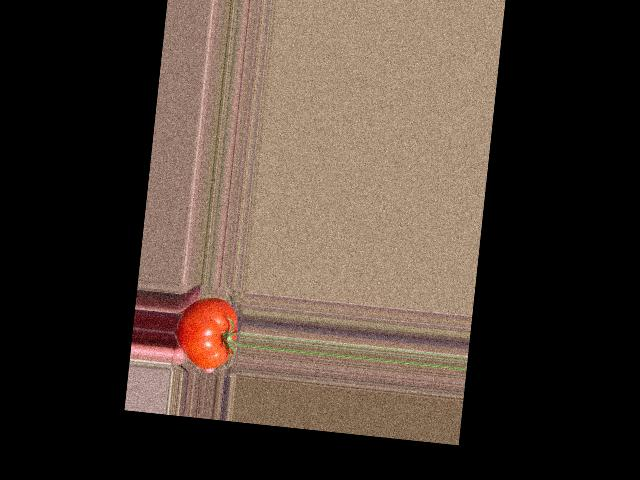tomato: (173, 295, 240, 371)
